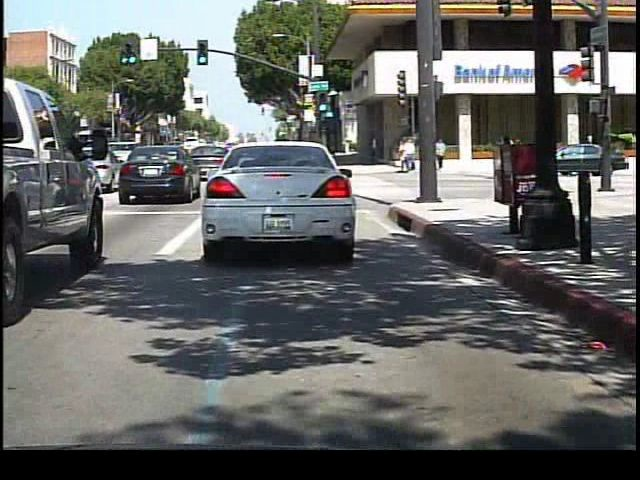person: (497, 134, 519, 175), (402, 135, 418, 177), (435, 135, 450, 171)
